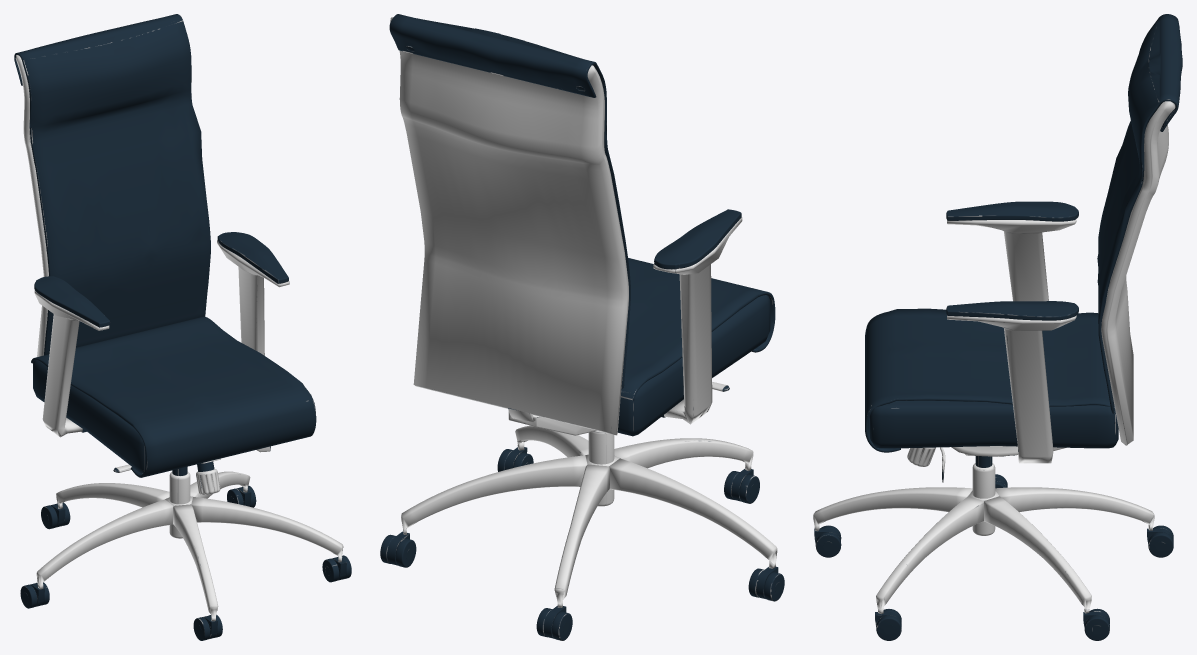
The model's file is silla5.dae.
The picture shows the model from 3 angles, left to right: view 1: azimuth 30°, elevation 25°; view 2: azimuth 150°, elevation 25°; view 3: azimuth 270°, elevation 25°; orthographic projection. The views are drawn at different scales.
Bounding box in the file's own units: 0.7893 × 0.853 × 1.33.
2 materials, 2 textured.
